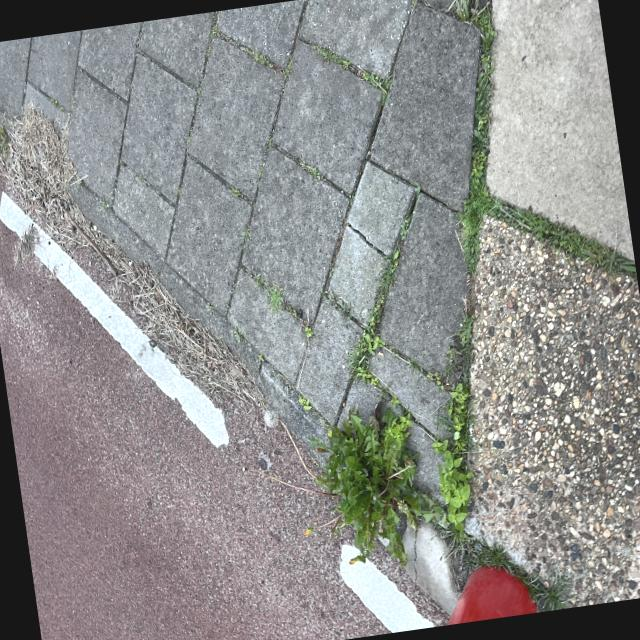pavement: (0, 15, 356, 565), (206, 4, 503, 622)
weed: (88, 324, 271, 476)
weedling: (371, 462, 626, 627)
